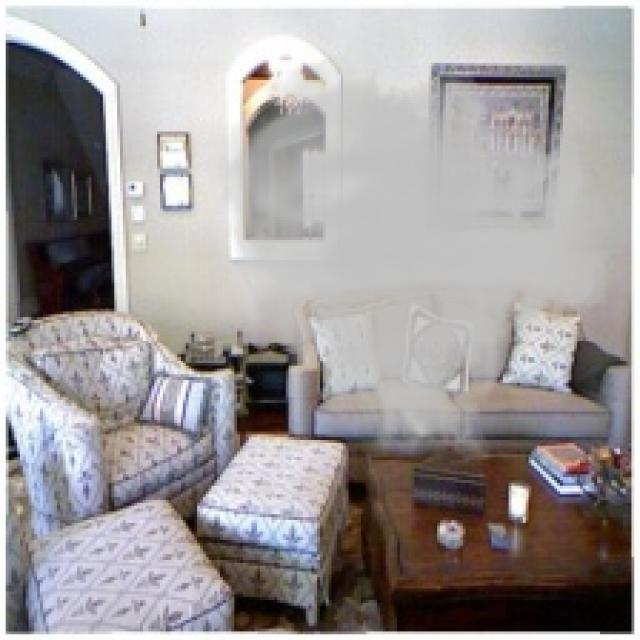smoke: (215, 51, 614, 468)
